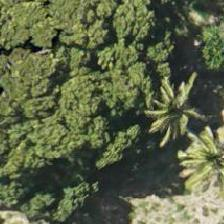coconut_tree: (134, 47, 223, 137)
